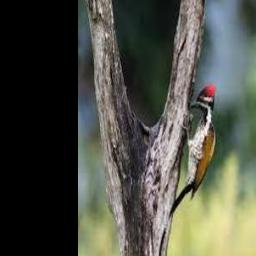Woodpecker: (169, 85, 215, 216)
